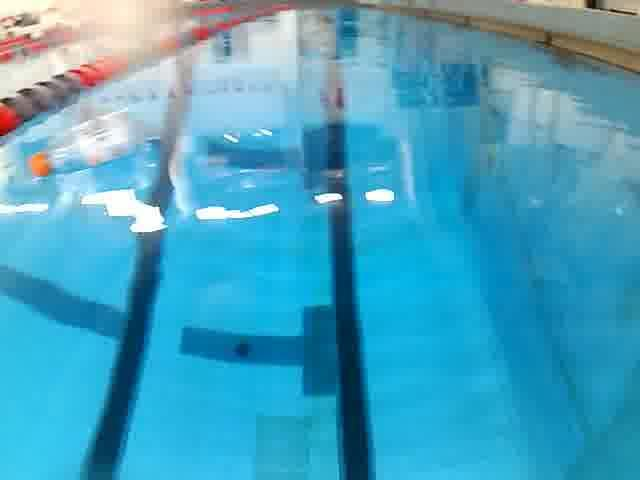Bottle: (23, 104, 147, 182)
